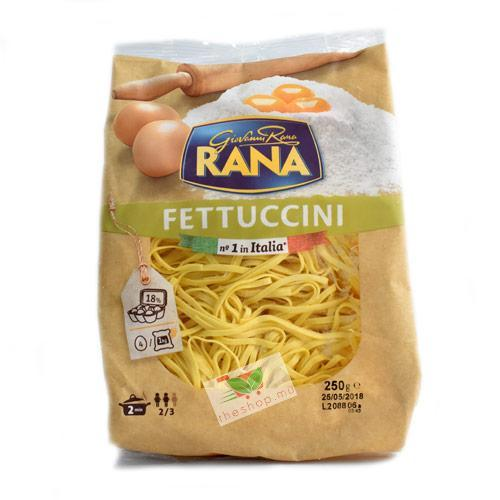plain spaghetti: (191, 277, 328, 349)
